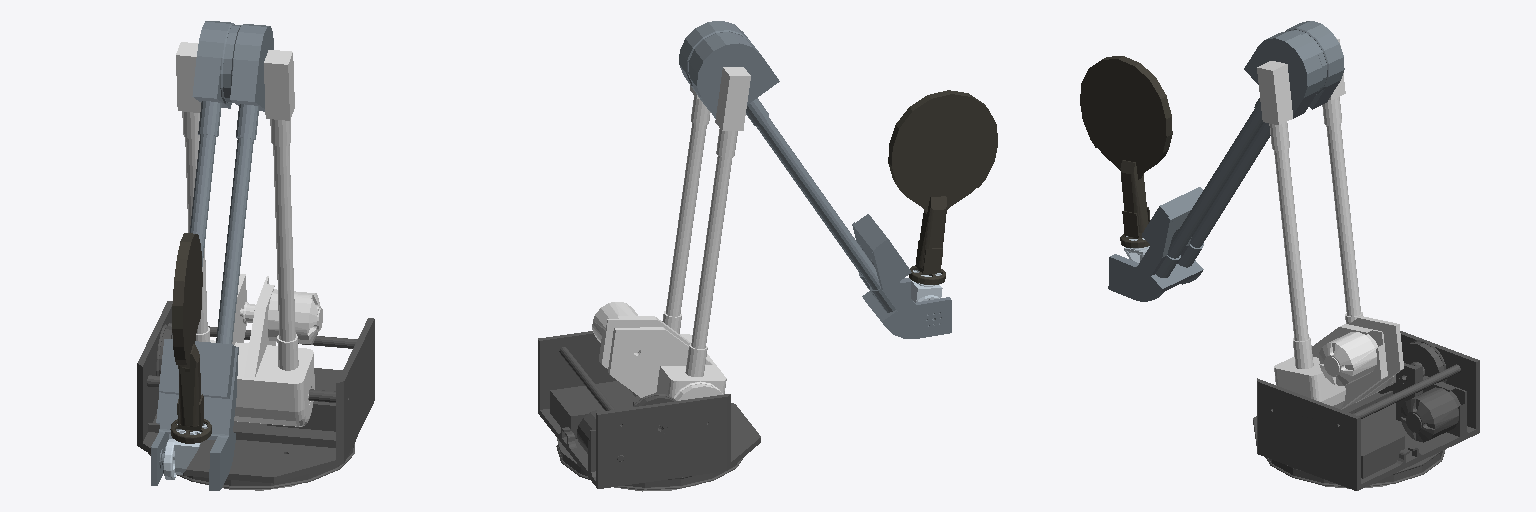
The robot description file, URDF, robot "mainarmass":
<?xml version="1.0"?>
<robot name="mainarmass">
    <material name="gray"><color rgba="0.647 0.647 0.647 1"/></material>
    <material name="black"><color rgba="0.529 0.568 0.6 1"/></material>
    <material name="red"><color rgba="0.301 0.290 0.262 1"/></material>
    <material name="dark_gray"><color rgba="0.4 0.4 0.4 1"/></material>
    <material name="white"><color rgba="0.901 0.901 0.901 1"/></material>
    <material name="light_blue"><color rgba="0.811 0.858 0.898 1"/></material>

    <link name="root" />

    <link name="Base">
        <inertial>
            <mass value="0.217226" />
            <origin xyz="0 0 0.005" rpy="0 0 0" />
            <inertia ixx="0.000948" ixy="0" ixz="0" iyy="0.000948" iyz="0" izz="0.001894" />
        </inertial>
        <visual>
            <origin xyz="0 0 0" rpy="0 0 0" />
            <geometry><mesh filename="package://mainarmass/meshes/67.stl" scale="1 1 1" /></geometry>
            <material name="gray"/>
        </visual>
    </link>

    <link name="Shoulder">
        <inertial>
            <mass value="59.0911" />
            <origin xyz="0.0015 0.0238 0.0500" rpy="0 0 0" />
            <inertia ixx="0.3261" ixy="0.0555" ixz="-0.0050" iyy="0.4205" iyz="-0.0286" izz="0.6275" />
        </inertial>
        <visual>
            <origin xyz="0.0637 0.1917 0.0902" rpy="0 0 0" />
            <geometry><mesh filename="package://mainarmass/meshes/63.stl" scale="1 1 1" /></geometry>
            <material name="dark_gray"/>
        </visual>
    </link>

    <link name="UpperArm">
        <inertial>
            <mass value="40.1813" />
            <origin xyz="0.0016 0.0003 0.0734" rpy="0 0 0" />
            <inertia ixx="0.8193" ixy="-0.0077" ixz="0.0436" iyy="0.8412" iyz="0.1480" izz="0.1764" />
        </inertial>
        <visual>
            <origin xyz="-0.0453 0.1279 0.0401" rpy="0 0 0" />
            <geometry><mesh filename="package://mainarmass/meshes/75.stl" scale="1 1 1" /></geometry>
            <material name="white"/>
        </visual>
    </link>

    <link name="Forearm">
        <inertial>
            <mass value="29.5338" />
            <origin xyz="-0.0255 -0.0694 -0.1516" rpy="0 0 0" />
            <inertia ixx="1.1872" ixy="-0.0724" ixz="-0.1595" iyy="1.0148" iyz="-0.4378" izz="0.2615" />
        </inertial>
        <visual>
            <origin xyz="0.0640 0.2460 -0.3971" rpy="0 0 0" />
            <geometry><mesh filename="package://mainarmass/meshes/79.stl" scale="1 1 1" /></geometry>
            <material name="black"/>
        </visual>
    </link>

    <link name="Wrist">
        <inertial>
            <mass value="0.81762" />
            <origin xyz="-0.0285 0.0006 0.0133" rpy="0 0 0" />
            <inertia ixx="0.000344" ixy="-0.000069" ixz="0.000106" iyy="0.000371" iyz="0.000039" izz="0.000269" />
        </inertial>
        <visual>
            <origin xyz="0.1232 0.3795 0.0397" rpy="0 0 0" />
            <geometry><mesh filename="package://mainarmass/meshes/59.stl" scale="1 1 1" /></geometry>
            <material name="light_blue"/>
        </visual>
    </link>

    <link name="Paddle">
        <inertial>
            <mass value="9.05818" />
            <origin xyz="-0.0346 -0.0910 0.1368" rpy="0 0 0" />
            <inertia ixx="0.0518" ixy="-0.0068" ixz="0.0057" iyy="0.0352" iyz="0.0143" izz="0.0220" />
        </inertial>
        <visual>
            <origin xyz="0.1494 0.3836 -0.0516" rpy="0 0 0" />
            <geometry><mesh filename="package://mainarmass/meshes/71.stl" scale="1 1 1" /></geometry>
            <material name="red"/>
        </visual>
    </link>

    <joint name="root_to_base" type="fixed">
        <origin xyz="0 0 0" rpy="0 0 0" />
        <parent link="root" />
        <child link="Base" />
    </joint>

    <joint name="BaseRotate_0" type="continuous">
        <origin xyz="0 0 0" rpy="0.01712 0.04808 -0.38348" />
        <axis xyz="0.04806 -0.01710 -0.99869" />
        <parent link="Base" />
        <child link="Shoulder" />
    </joint>

    <joint name="UpperArmRotate_0" type="continuous">
        <origin xyz="-0.01750 -0.03317 0.10511" rpy="-0.08249 -0.02327 0.02051" />
        <axis xyz="0.93476 -0.35525 0" />
        <parent link="Shoulder" />
        <child link="UpperArm" />
    </joint>

    <joint name="ForeArmRotate_0" type="continuous">
        <origin xyz="-0.03355 -0.08830 0.45530" rpy="-0.06873 0.02609 -0.00089" />
        <axis xyz="0.93476 -0.35525 0" />
        <parent link="UpperArm" />
        <child link="Forearm" />
    </joint>

    <joint name="WristRotate_0" type="continuous">
        <origin xyz="-0.10957 -0.19888 -0.43388" rpy="-0.84990 0.27810 3.0151" />
        <axis xyz="0.93476 -0.35525 0" />
        <parent link="Forearm" />
        <child link="Wrist" />
    </joint>

    <joint name="PaddleRotate_0" type="continuous">
        <origin xyz="-0.04174 -0.00429 0.02647" rpy="0 0 0" />
        <axis xyz="0.20602 0.54209 -0.81467" />
        <parent link="Wrist" />
        <child link="Paddle" />
    </joint>
</robot>

--- Render facts (derived) ---
3 views of the same robot in one strip: view 1: azimuth 30°, elevation 25°; view 2: azimuth 150°, elevation 25°; view 3: azimuth 270°, elevation 25° (orthographic).
Robot: mainarmass — 7 links, 6 joints (5 continuous, 1 fixed); root link root; default pose: every joint at zero.
Visible links, largest first — view 1: Forearm, UpperArm, Shoulder, Paddle, Wrist; view 2: Shoulder, UpperArm, Forearm, Paddle, Wrist; view 3: Shoulder, UpperArm, Forearm, Paddle.
Link boxes in pixels (x1,y1,x2,y2): Forearm: (151, 21, 273, 490); UpperArm: (176, 42, 322, 426); Shoulder: (137, 301, 374, 488); Paddle: (170, 233, 211, 443); Wrist: (164, 423, 207, 479); Shoulder: (538, 331, 760, 489); UpperArm: (592, 67, 750, 400); Forearm: (679, 21, 951, 338); Paddle: (888, 90, 997, 284); Wrist: (911, 270, 942, 302); Shoulder: (1253, 331, 1479, 490); UpperArm: (1257, 38, 1403, 409); Forearm: (1108, 21, 1344, 301); Paddle: (1080, 56, 1172, 247).
Bounding box of the posed robot: 0.4955 × 0.5483 × 0.6149 m (x, y, z).
Meshes: 6 distinct files referenced, 6 mesh visuals loaded (6 ASCII STL).
